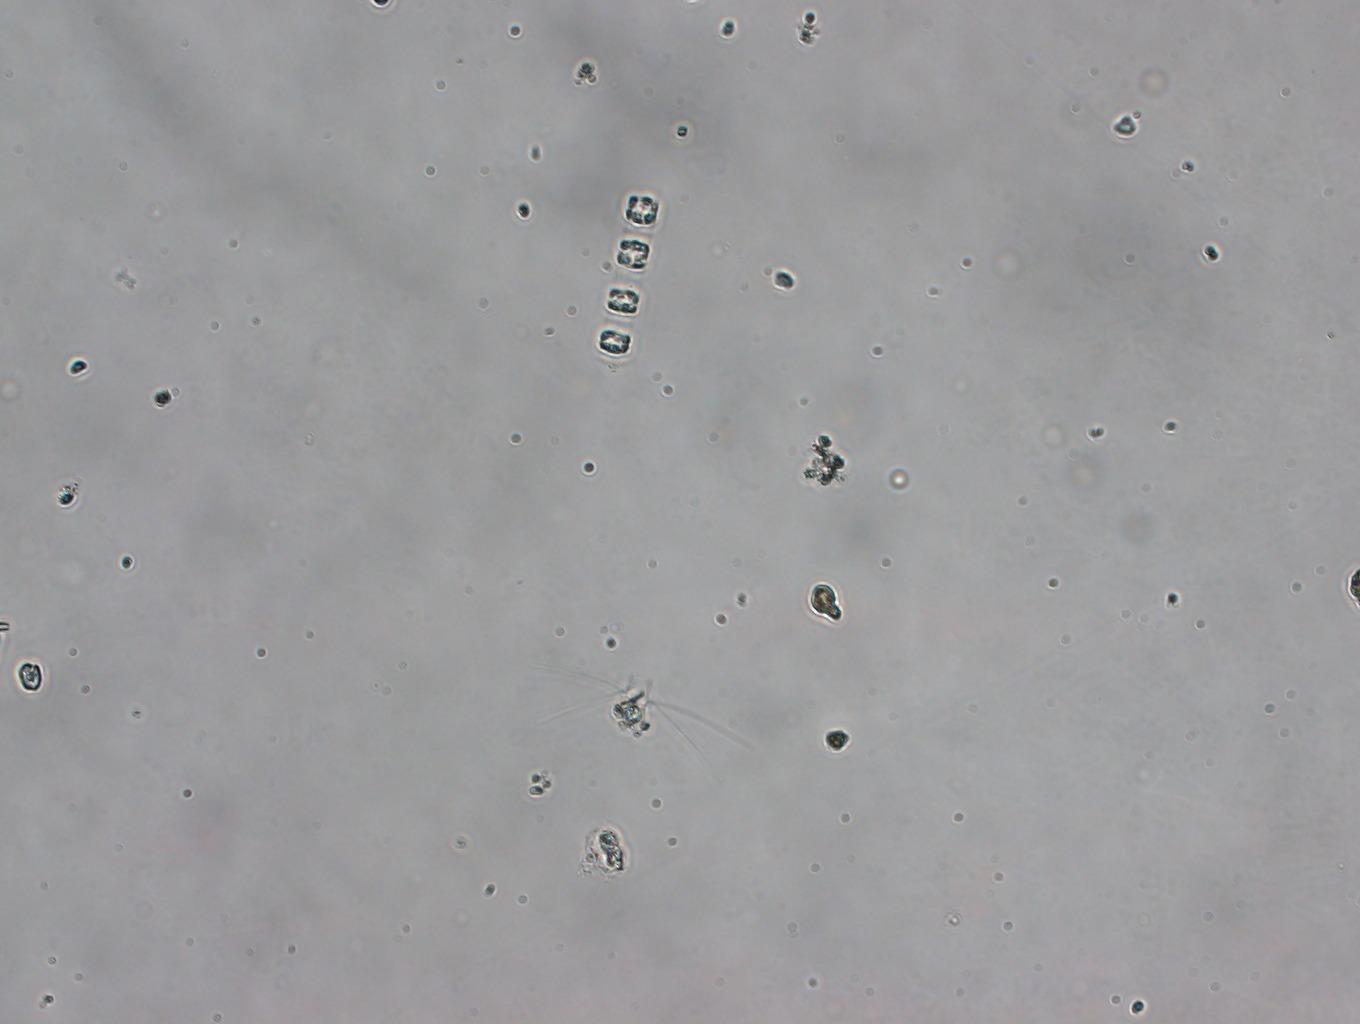chaetoceros: (490, 653, 757, 784)
skeletonema: (587, 177, 663, 372)
